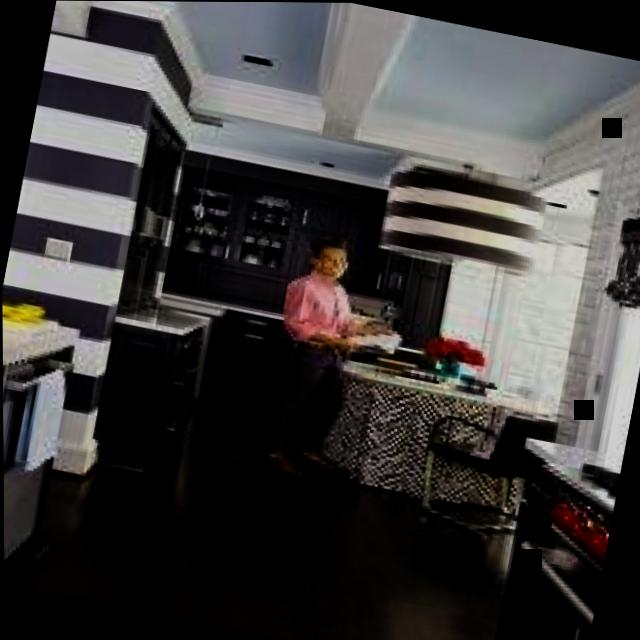NO-Mask: (312, 244, 350, 282)
